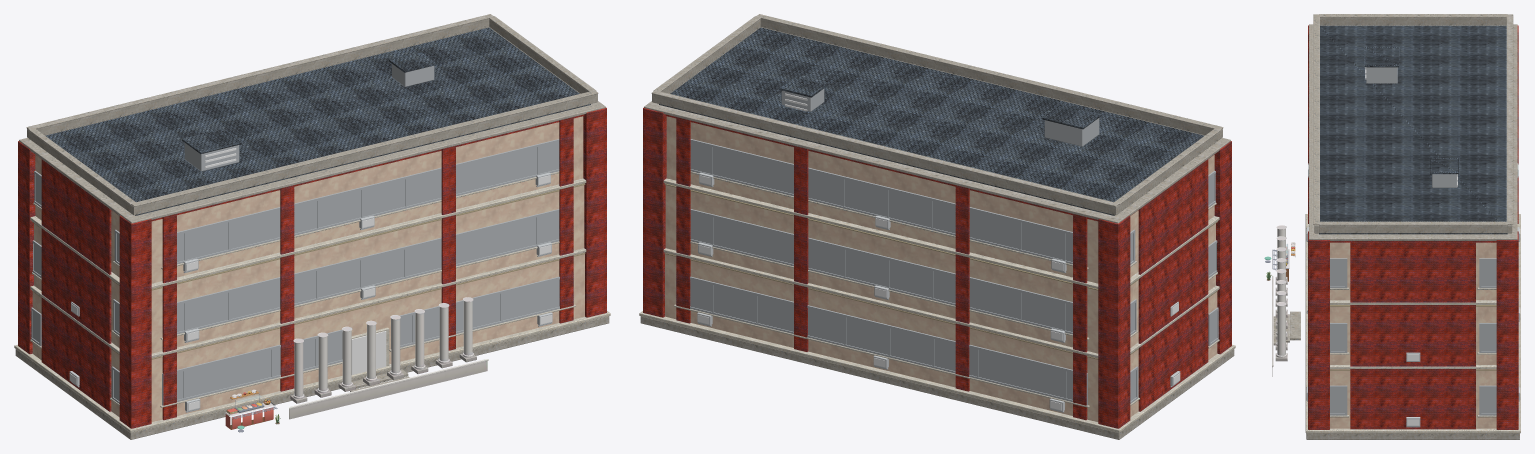
The model's file is ov-canteen.glb.
3 renders of one model, left to right at view 1: azimuth 30°, elevation 25°; view 2: azimuth 150°, elevation 25°; view 3: azimuth 270°, elevation 25°, orthographic. The views are drawn at different scales.
Visible parts, largest first — view 1: canteen_roof_slab, canteen_red_gable_W, canteen_body_F2, canteen_body_F3, canteen_body_F1, canteen_win_F2_S_frame_back, canteen_win_F3_S_frame_back, canteen_portico_stolen, canteen_red_corner_WS, canteen_cornice_top, canteen_red_corner_ES, canteen_parapet_S (+33 smaller); view 2: canteen_roof_slab, canteen_red_gable_W, canteen_body_F1, canteen_body_F2, canteen_body_F3, canteen_win_F1_N_frame_back, canteen_win_F2_N_frame_back, canteen_win_F3_N_frame_back, canteen_red_corner_WN, canteen_cornice_top, canteen_red_corner_EN, canteen_plinth (+31 smaller); view 3: canteen_roof_slab, canteen_red_gable_E, canteen_red_corner_EN, canteen_red_corner_ES, canteen_cornice_top, canteen_plinth_cap, canteen_portico_stolen, canteen_parapet_E, canteen_parapet_W, canteen_parapet_cap_N, canteen_plinth, canteen_parapet_cap_S (+20 smaller).
Part boxes in pixels (left/top/right/bottom): canteen_roof_slab: left=45, top=27, right=590, bottom=215; canteen_red_gable_W: left=41, top=159, right=111, bottom=411; canteen_body_F2: left=34, top=185, right=584, bottom=353; canteen_body_F3: left=35, top=116, right=583, bottom=283; canteen_body_F1: left=32, top=252, right=584, bottom=421; canteen_win_F2_S_frame_back: left=177, top=212, right=559, bottom=332; canteen_win_F3_S_frame_back: left=177, top=142, right=559, bottom=262; canteen_portico_stolen: left=289, top=297, right=488, bottom=419; canteen_red_corner_WS: left=119, top=215, right=151, bottom=428; canteen_cornice_top: left=19, top=27, right=605, bottom=223; canteen_red_corner_ES: left=583, top=107, right=606, bottom=317; canteen_parapet_S: left=131, top=94, right=597, bottom=215; canteen_roof_slab: left=659, top=27, right=1204, bottom=215; canteen_red_gable_W: left=1138, top=159, right=1208, bottom=411; canteen_body_F1: left=665, top=252, right=1217, bottom=421; canteen_body_F2: left=665, top=185, right=1215, bottom=353; canteen_body_F3: left=666, top=116, right=1214, bottom=283; canteen_win_F1_N_frame_back: left=690, top=279, right=1087, bottom=404; canteen_win_F2_N_frame_back: left=690, top=212, right=1072, bottom=332; canteen_win_F3_N_frame_back: left=690, top=142, right=1072, bottom=262; canteen_red_corner_WN: left=1098, top=215, right=1130, bottom=428; canteen_cornice_top: left=644, top=27, right=1230, bottom=223; canteen_red_corner_EN: left=643, top=107, right=666, bottom=317; canteen_plinth: left=640, top=316, right=1234, bottom=439; canteen_roof_slab: left=1319, top=25, right=1507, bottom=234; canteen_red_gable_E: left=1350, top=241, right=1475, bottom=429; canteen_red_corner_EN: left=1496, top=231, right=1518, bottom=429; canteen_red_corner_ES: left=1308, top=231, right=1329, bottom=429; canteen_cornice_top: left=1309, top=24, right=1517, bottom=240; canteen_plinth_cap: left=1305, top=214, right=1520, bottom=433; canteen_portico_stolen: left=1272, top=225, right=1287, bottom=376; canteen_parapet_E: left=1319, top=225, right=1507, bottom=233; canteen_parapet_W: left=1320, top=17, right=1506, bottom=25; canteen_parapet_cap_N: left=1506, top=14, right=1513, bottom=224; canteen_plinth: left=1306, top=433, right=1519, bottom=439; canteen_parapet_cap_S: left=1313, top=14, right=1319, bottom=224.
Bounding box in the file's own units: 32.7 × 15.62 × 16.35.
15 materials, 7 textured.
